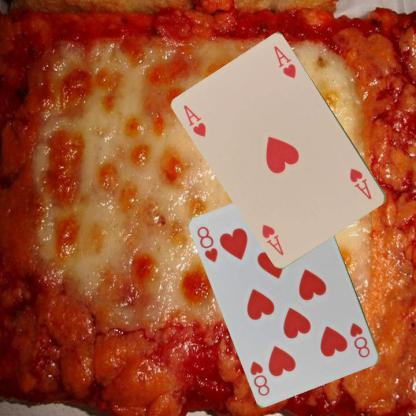8h: (194, 224, 219, 264), (347, 320, 372, 359)
Ah: (181, 102, 208, 138), (347, 165, 373, 201)
